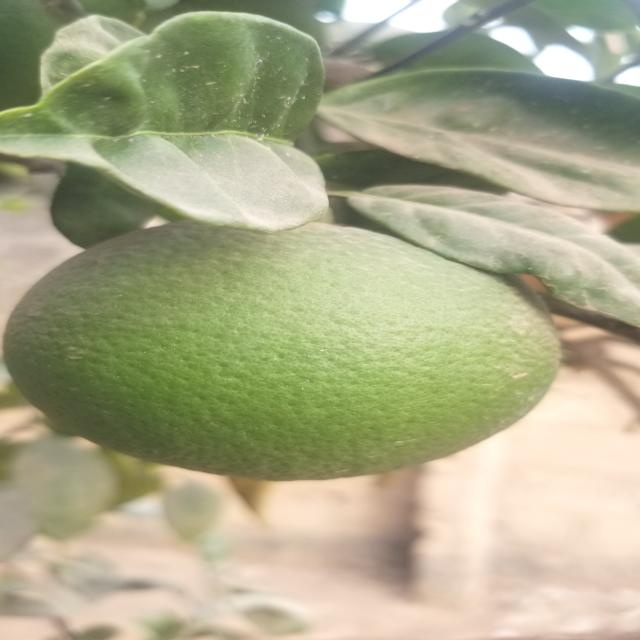agrume: (17, 216, 559, 480)
